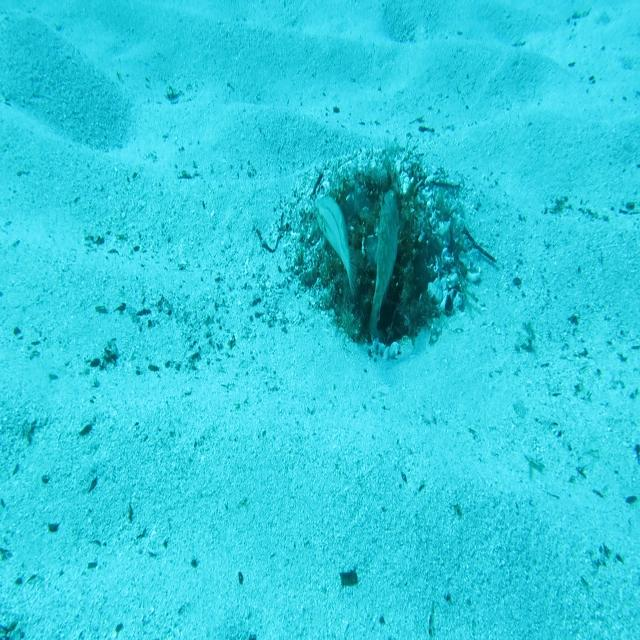ROLL: (367, 187, 400, 341)
core_nest: (352, 190, 404, 233)
female: (312, 190, 359, 300)
nest: (268, 132, 493, 372)
vegetation: (336, 569, 361, 589)
